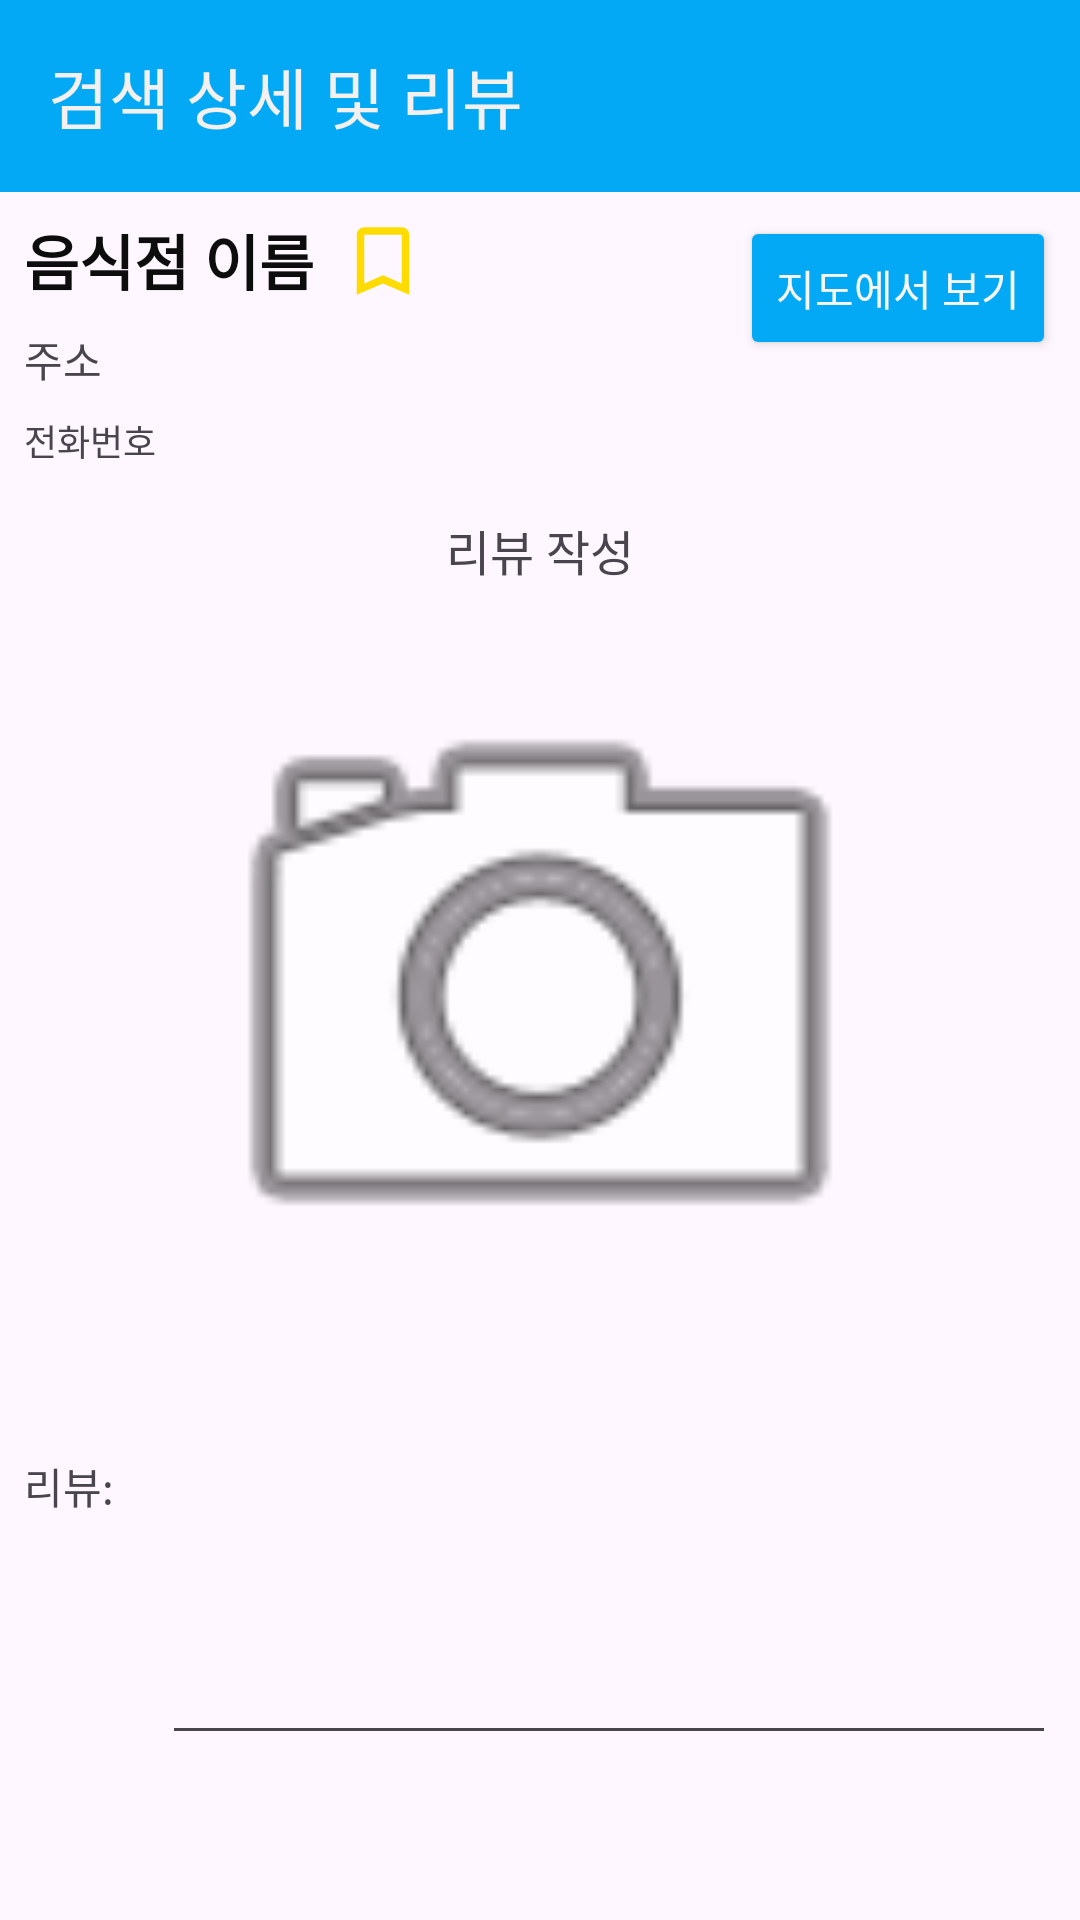

Point at icon controls on the screen. Image size 1080x1920, points as point (x, y).
bookmark border: point (383, 261)
